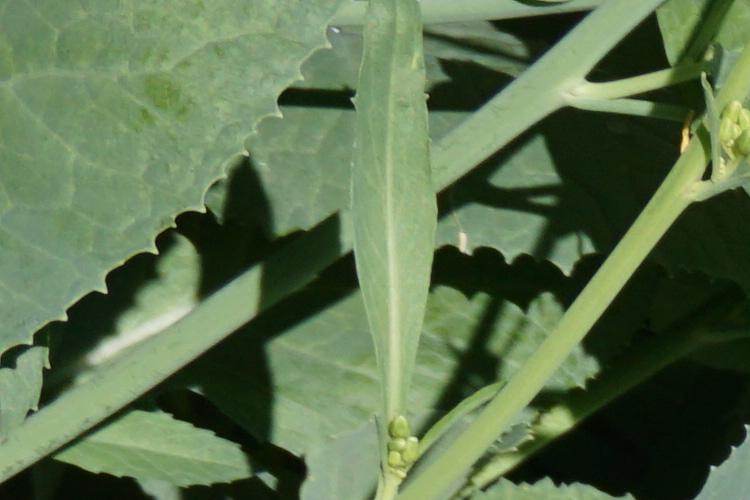bud: (398, 433, 420, 461), (721, 97, 741, 123), (388, 415, 408, 439), (716, 120, 735, 145), (383, 433, 408, 451), (735, 129, 750, 158), (386, 450, 404, 470), (739, 111, 750, 128)
